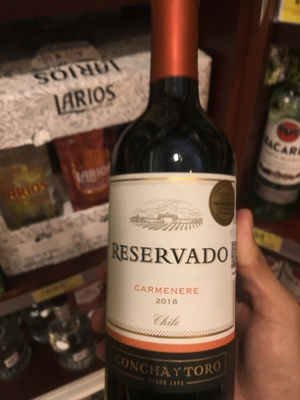reservado carmenere: (93, 8, 269, 400)
